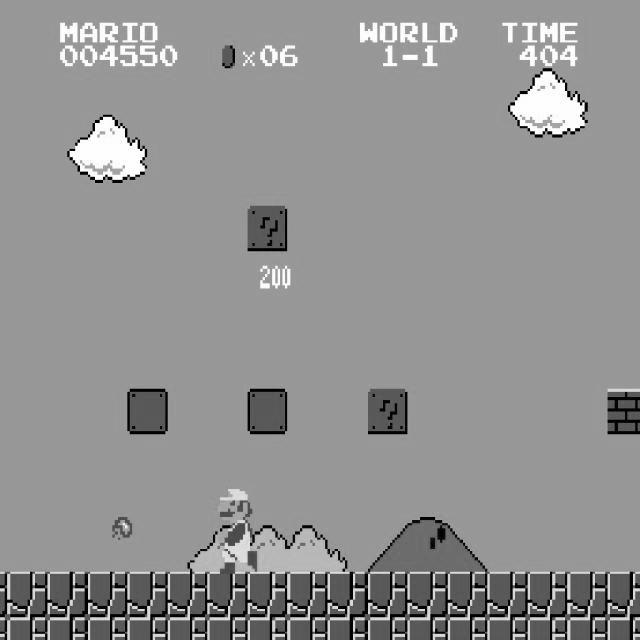1- brick_block: (607, 388, 640, 434)
13- mystery_block: (367, 388, 408, 434), (247, 206, 288, 251)
17- undestructible_block: (7, 572, 48, 618), (47, 572, 88, 618), (87, 572, 128, 618), (127, 572, 168, 618), (167, 572, 208, 618), (207, 572, 248, 618), (247, 572, 288, 618), (287, 572, 328, 618), (327, 572, 368, 618), (367, 572, 408, 618), (407, 572, 448, 618), (447, 572, 488, 618), (487, 572, 528, 618), (527, 572, 568, 618), (567, 572, 608, 618), (607, 571, 640, 617), (7, 617, 48, 640), (47, 617, 88, 640), (87, 617, 128, 640), (127, 617, 168, 640), (167, 617, 208, 640), (207, 617, 248, 640), (247, 617, 288, 640), (287, 617, 328, 640), (327, 617, 368, 640), (367, 617, 408, 640), (407, 617, 448, 640), (447, 617, 488, 640), (487, 617, 528, 640), (527, 617, 568, 640), (567, 617, 608, 640), (607, 617, 640, 639), (0, 572, 7, 618), (0, 617, 7, 640)
3- empty_block: (127, 388, 168, 434), (247, 388, 288, 434)
4- fire_mario: (215, 480, 258, 574)
5- fireball: (112, 514, 132, 540)
